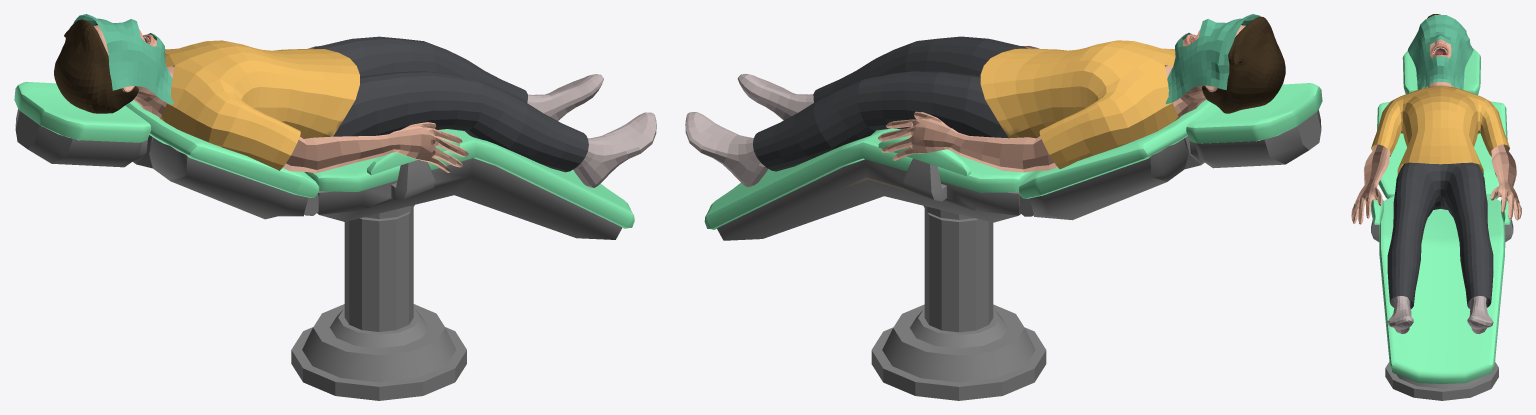
File: Patient_Anim_Split_Clip.fbx
3 views of the same model, side by side, from view 1: azimuth 30°, elevation 25°; view 2: azimuth 150°, elevation 25°; view 3: azimuth 270°, elevation 25° (orthographic). The views are drawn at different scales.
Parts seen in each view (by area): view 1: pCylinder3, Shirt, Pants, pCube5, pCube11, pCube10, Arm, Foot, pCube13, Hair, pCube12, Cloth (+2 smaller); view 2: pCylinder3, Shirt, Pants, pCube5, pCube11, pCube10, Arm, Foot, pCube13, Hair, pCube12, Cloth (+2 smaller); view 3: pCube10, Pants, Shirt, Cloth, Arm, pCylinder3, pCube12, Foot, pCube13, Head, pCube14, pCube5.
Boxes of the visible parts, <box> form: pCylinder3: <box>291,207,466,400</box>; Shirt: <box>160,40,359,170</box>; Pants: <box>313,36,588,172</box>; pCube5: <box>317,158,622,239</box>; pCube11: <box>15,109,308,219</box>; pCube10: <box>304,129,634,228</box>; Arm: <box>282,46,468,173</box>; Foot: <box>527,74,656,187</box>; pCube13: <box>14,82,150,142</box>; Hair: <box>54,19,138,113</box>; pCube12: <box>125,100,319,197</box>; Cloth: <box>73,14,173,104</box>; pCylinder3: <box>871,208,1046,400</box>; Shirt: <box>980,40,1179,169</box>; Pants: <box>753,36,1027,171</box>; pCube5: <box>717,158,1020,240</box>; pCube11: <box>1029,110,1321,220</box>; pCube10: <box>704,128,1035,229</box>; Arm: <box>878,45,1057,172</box>; Foot: <box>685,73,813,187</box>; pCube13: <box>1186,83,1322,143</box>; Hair: <box>1202,16,1285,113</box>; pCube12: <box>1019,99,1214,198</box>; Cloth: <box>1165,14,1260,104</box>; pCube10: <box>1379,194,1505,383</box>; Pants: <box>1387,162,1493,309</box>; Shirt: <box>1371,86,1509,175</box>; Cloth: <box>1407,15,1473,89</box>; Arm: <box>1351,144,1521,224</box>; pCylinder3: <box>1385,362,1498,400</box>; pCube12: <box>1377,101,1507,198</box>; Foot: <box>1387,296,1493,333</box>; pCube13: <box>1402,48,1480,94</box>; Head: <box>1427,39,1453,86</box>; pCube14: <box>1371,199,1511,224</box>; pCube5: <box>1371,219,1513,373</box>.
Bounding box in the file's own units: 193 × 128 × 72.76.
8 materials, 7 textured.
